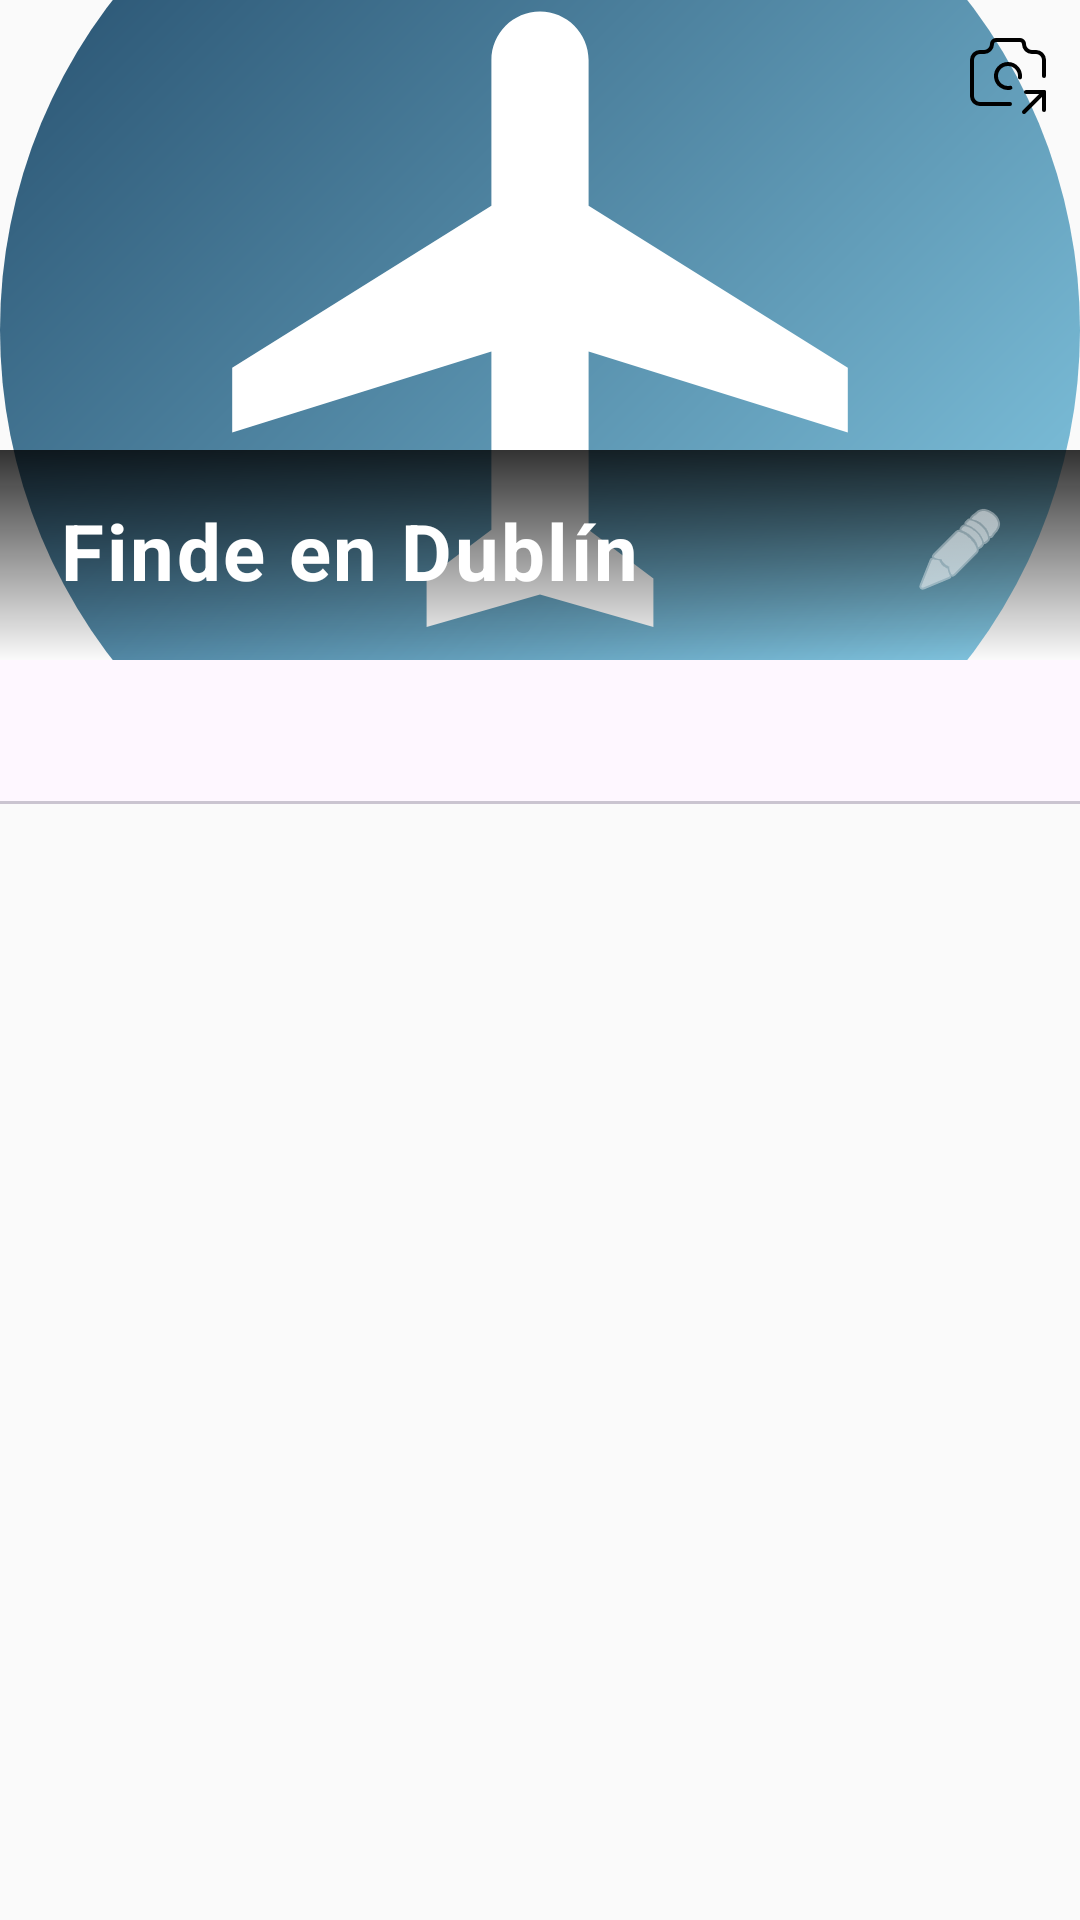

Icon bounding boxes for this 1080×1920 phone screenshot, format (x1, y1, x2, y2):
Cambiar foto de viaje: (967, 0, 1080, 144)
